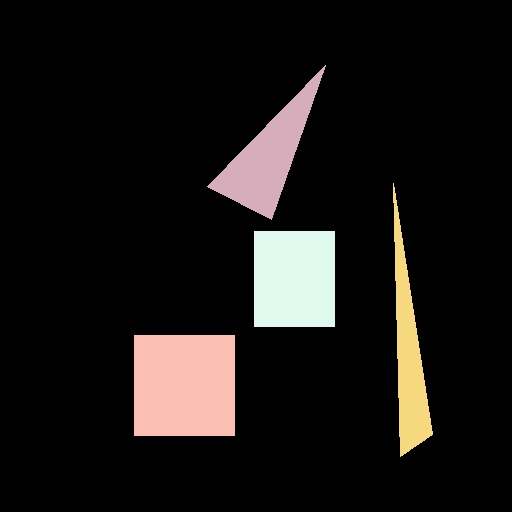rectangle: (254, 231, 334, 326)
square: (134, 335, 234, 435)
triangle: (208, 65, 325, 219), (393, 183, 432, 456)
